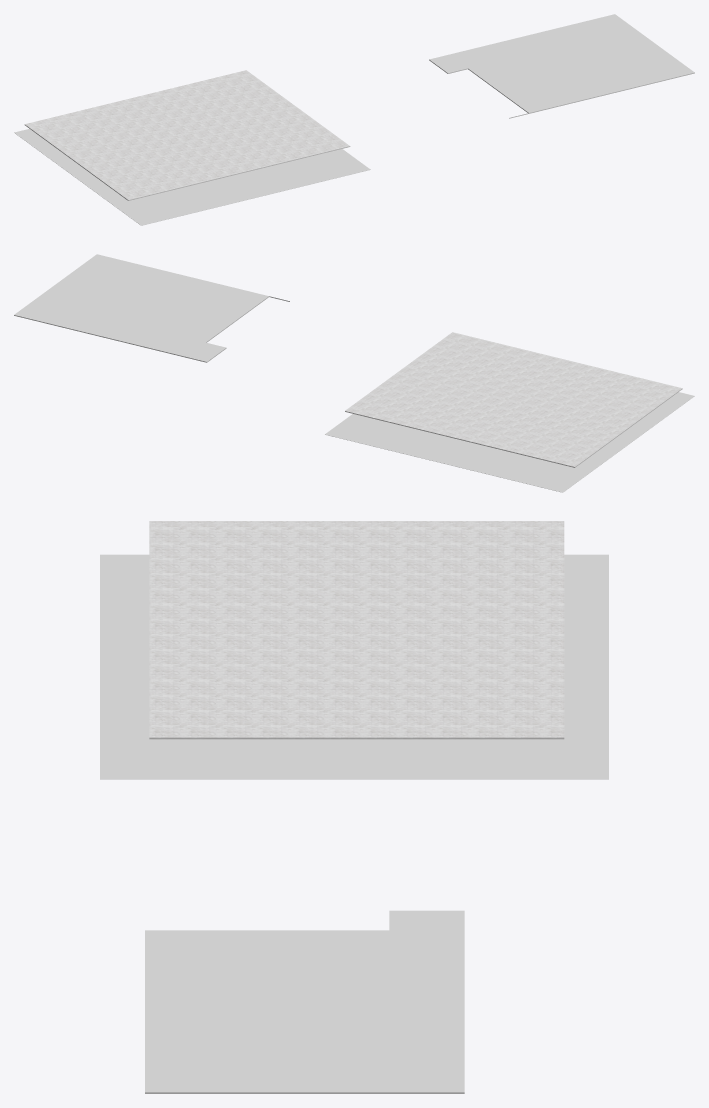
Rendered from TECHO.fbx.
3 renders of one model, top to bottom at view 1: azimuth 30°, elevation 25°; view 2: azimuth 150°, elevation 25°; view 3: azimuth 270°, elevation 25°, orthographic. The views are drawn at different scales.
Parts seen in each view (by area): view 1: Cube.590, Cube.170, Cube.530; view 2: Cube.590, Cube.170, Cube.530; view 3: Cube.590, Cube.170, Cube.530.
Boxes of the visible parts, bbox=[...] form: Cube.590: bbox=[24, 70, 350, 200]; Cube.170: bbox=[429, 14, 694, 118]; Cube.530: bbox=[14, 129, 370, 225]; Cube.590: bbox=[345, 332, 682, 467]; Cube.170: bbox=[14, 254, 289, 362]; Cube.530: bbox=[325, 392, 694, 492]; Cube.590: bbox=[149, 521, 564, 739]; Cube.170: bbox=[145, 910, 464, 1093]; Cube.530: bbox=[100, 554, 608, 779].
Bounding box in the file's own units: 13177 × 373 × 5136.
